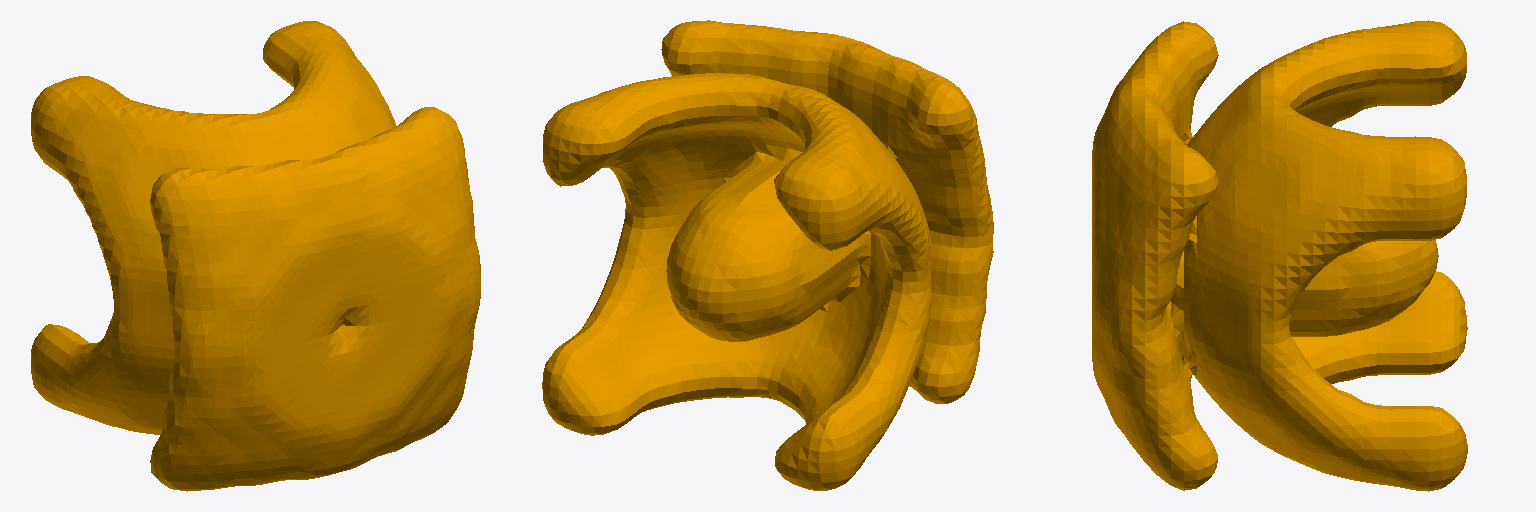
The robot description file, URDF, robot "L11_1":
<?xml version="1.0"?>
<robot name="L11_1">
  <link name="base_link">
    <inertial>
      <mass value="0.13505" />
      <origin xyz="0 0 0" />
      <inertia  ixx="0.0002" ixy="0.0"  ixz="0.0"  iyy="0.0002"  iyz="0.0" izz="0.0002" />
    </inertial>
    <visual>
      <geometry>
        <mesh filename="../../../meshes/egad/train/L11_1.obj" />
      </geometry>
    </visual>
    <collision>
      <geometry>
        <mesh filename="../../../meshes/egad/train/L11_1.obj" />
      </geometry>
    </collision>
  </link>
</robot>

--- Facts derived from the render (not from the file) ---
3 views of the same robot in one strip: view 1: azimuth 30°, elevation 25°; view 2: azimuth 150°, elevation 25°; view 3: azimuth 270°, elevation 25° (orthographic).
Model L11_1 with 1 links and 0 joints (none), rooted at base_link, posed every joint at zero.
Visible links, largest first — view 1: base_link; view 2: base_link; view 3: base_link.
Link boxes in pixels (x1,y1,x2,y2): base_link: (31,21,480,491); base_link: (542,20,993,490); base_link: (1092,20,1467,491).
Size in the robot's own frame: 0.0602 by 0.0599 by 0.0602 metres.
1 mesh visuals loaded from 1 distinct referenced files (1 OBJ).